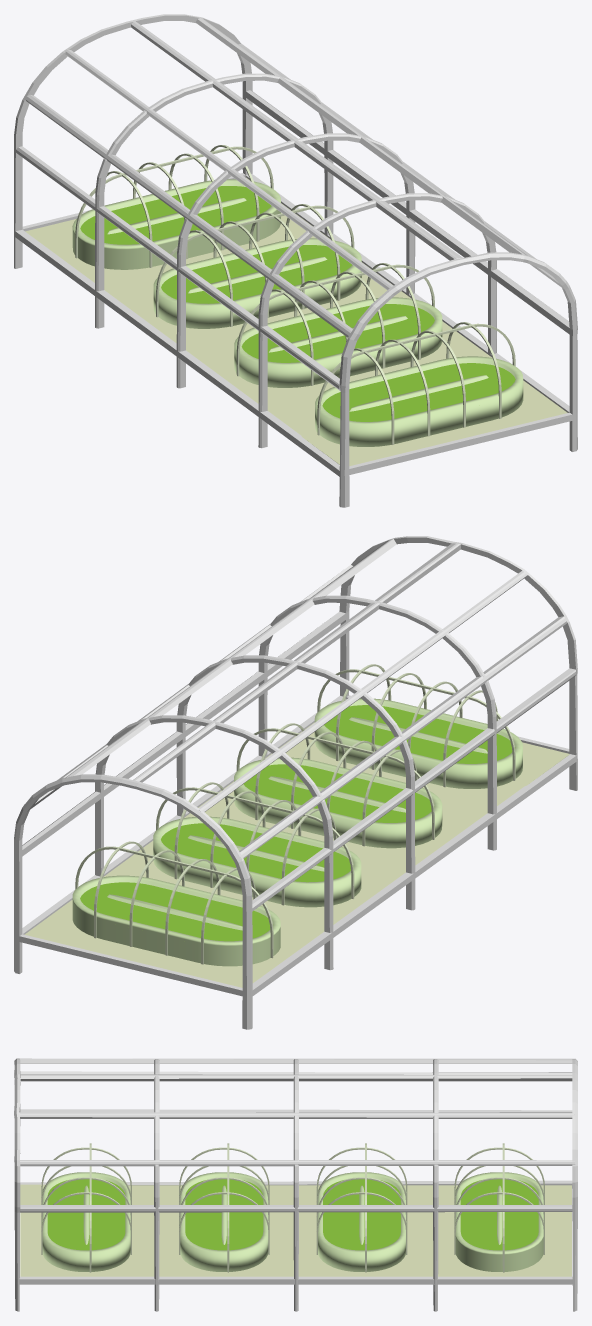
Rendered from algae-farm.glb.
The picture shows the model from 3 angles, top to bottom: view 1: azimuth 30°, elevation 25°; view 2: azimuth 150°, elevation 25°; view 3: azimuth 270°, elevation 25°; orthographic projection. The views are drawn at different scales.
Visible parts, largest first — view 1: Cube.002, Cube.001, Cube.006, Plane, Cube.007; view 2: Cube.002, Cube.001, Cube.006, Plane, Cube.007; view 3: Cube.002, Plane, Cube.006, Cube.001, Cube.007.
Boxes of the visible parts, x1,y1,x2,y2 form: Cube.002: (14, 14, 577, 507); Cube.001: (72, 179, 523, 446); Cube.006: (80, 186, 515, 421); Plane: (25, 177, 567, 466); Cube.007: (75, 145, 515, 444); Cube.002: (14, 536, 577, 1029); Cube.001: (72, 698, 522, 966); Cube.006: (80, 705, 515, 941); Plane: (25, 699, 569, 987); Cube.007: (75, 664, 515, 964); Cube.002: (14, 1058, 577, 1311); Plane: (20, 1184, 571, 1276); Cube.006: (47, 1179, 538, 1250); Cube.001: (42, 1172, 543, 1271); Cube.007: (41, 1143, 544, 1272).
Bounding box in the file's own units: 11.47 × 10.11 × 27.67.
